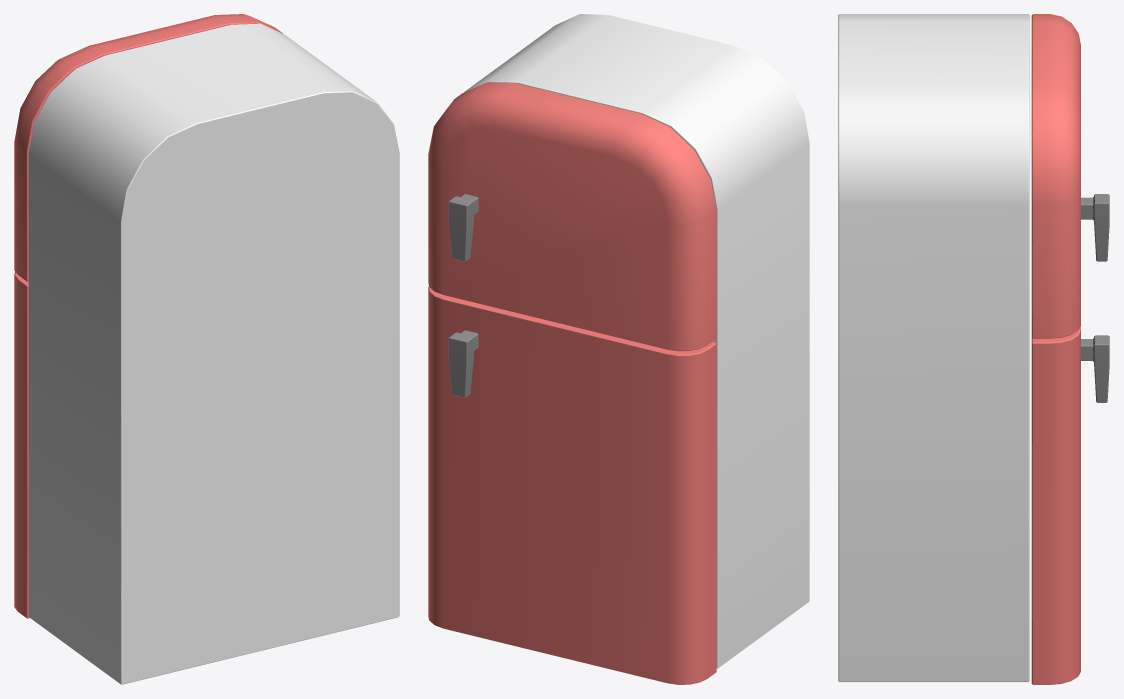
The model's file is fridge.glb.
3 renders of one model, left to right at view 1: azimuth 30°, elevation 25°; view 2: azimuth 150°, elevation 25°; view 3: azimuth 270°, elevation 25°, orthographic. The views are drawn at different scales.
Parts seen in each view (by area): view 1: Fridge; view 2: Fridge; view 3: Fridge.
Boxes of the visible parts, x1,y1,x2,y2 form: Fridge: (14, 14, 399, 684); Fridge: (428, 14, 809, 684); Fridge: (838, 14, 1109, 684).
Bounding box in the file's own units: 1.84 × 3.45 × 1.51.
